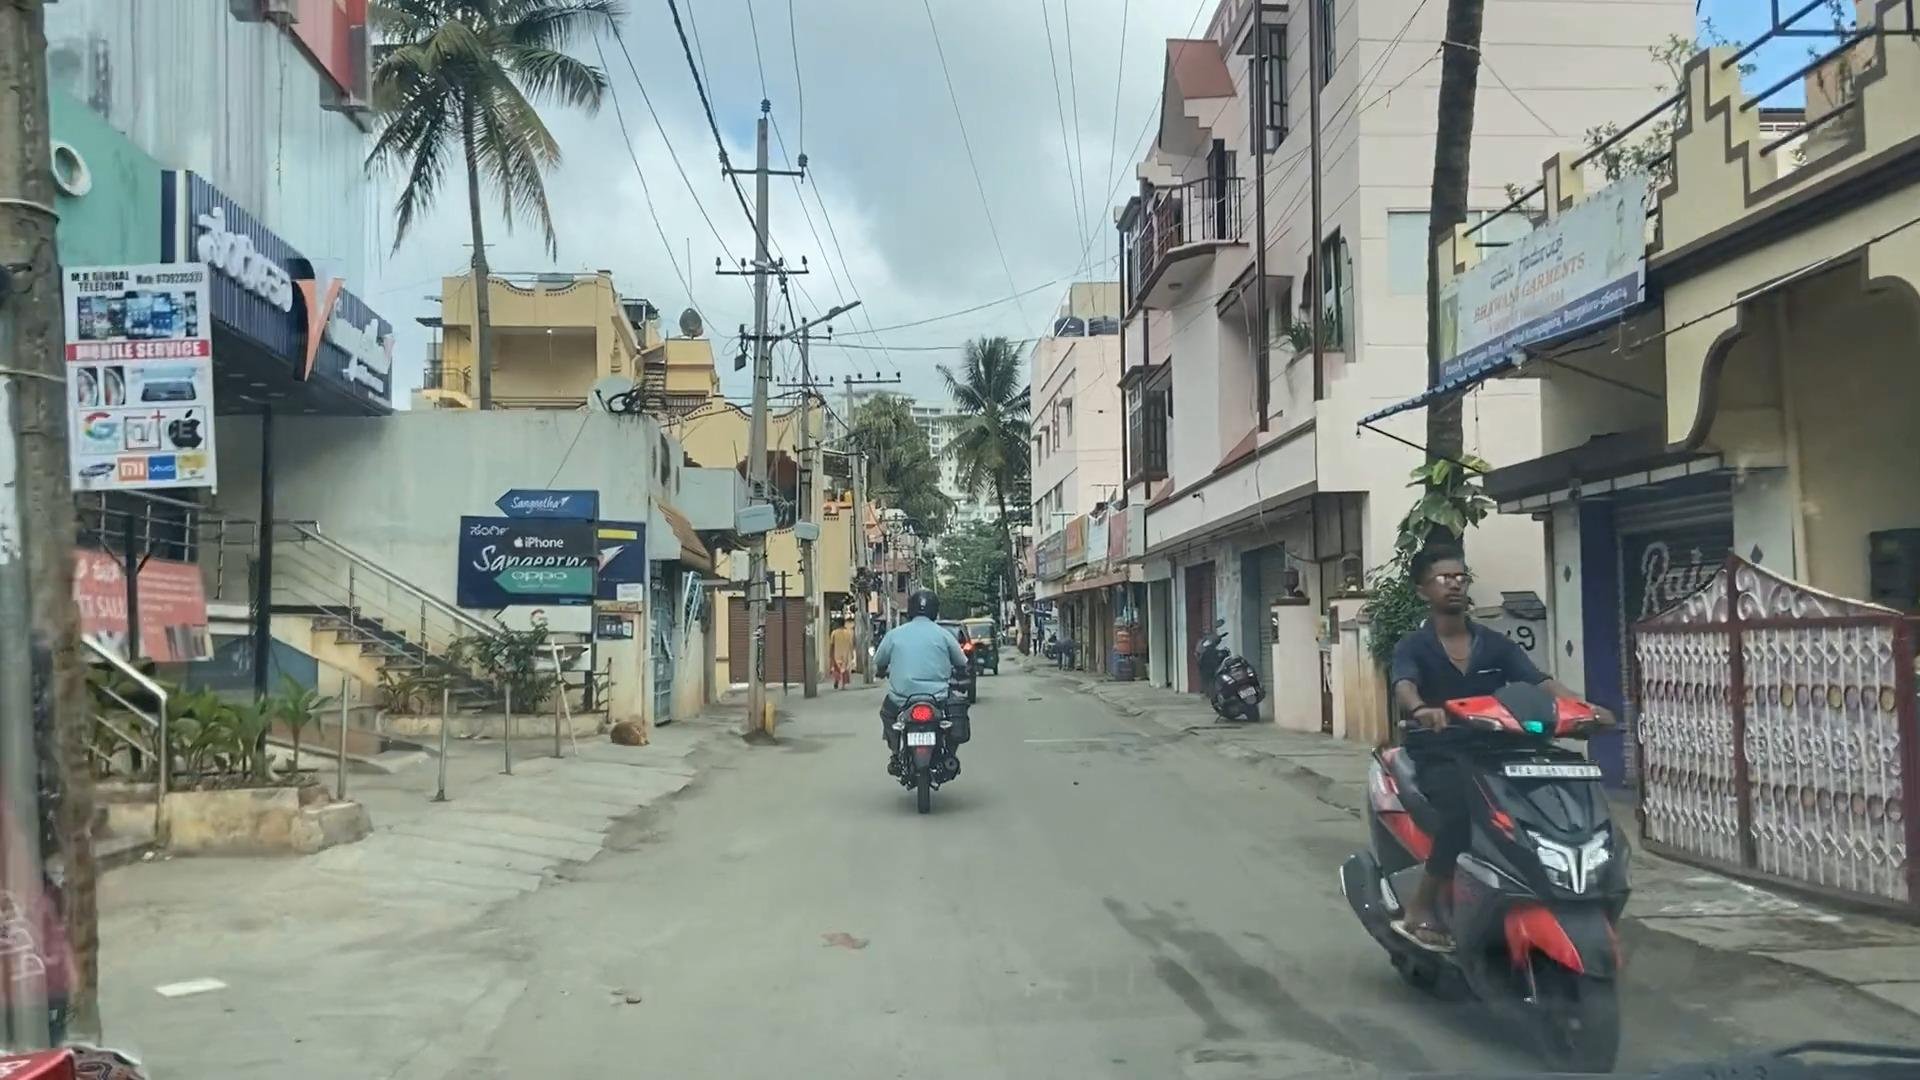LMV: (1370, 526, 1621, 1063), (893, 591, 967, 807)
RoadDamages: (1170, 1014, 1358, 1080)
